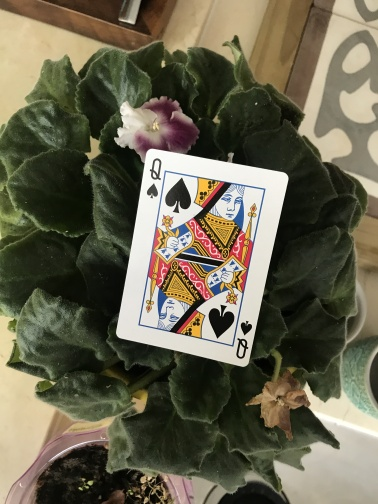queen: (115, 147, 291, 369)
